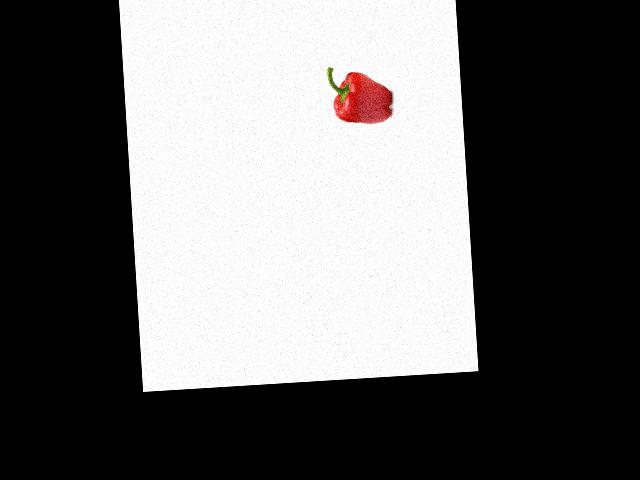bell_pepper: (322, 61, 398, 129)
